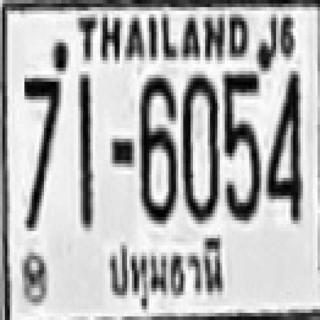N00: (181, 71, 217, 220)
N01: (77, 75, 92, 217)
N04: (264, 69, 301, 219)
N05: (222, 71, 259, 217)
N06: (137, 75, 176, 220)
N07: (22, 74, 59, 228), (22, 75, 59, 188), (22, 76, 59, 176)
P38: (106, 235, 229, 316)
